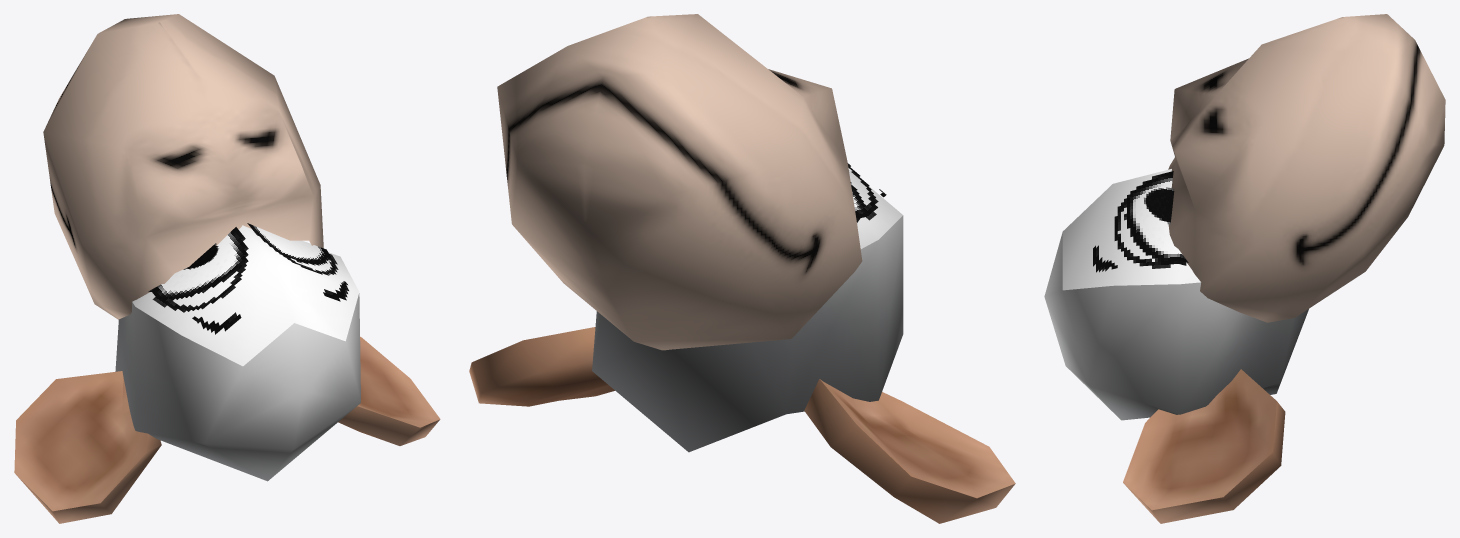
The model's file is psl_500.glb.
3 views of the same model, side by side, from view 1: azimuth 30°, elevation 25°; view 2: azimuth 150°, elevation 25°; view 3: azimuth 270°, elevation 25° (orthographic). The views are drawn at different scales.
Parts seen in each view (by area): view 1: muzzle-long-neutral, head-short, ears-short, head-front-short, eyes-short; view 2: muzzle-long-neutral, head-short, ears-short, head-front-short, eyes-short; view 3: muzzle-long-neutral, head-short, ears-short, head-front-short, eyes-short, joint_pupilR_short.
Part boxes in pixels (x1,y1,x2,y2): muzzle-long-neutral: (43,14,323,319); head-short: (115,293,360,481); ears-short: (14,336,440,523); head-front-short: (132,225,359,366); eyes-short: (148,223,348,334); muzzle-long-neutral: (497,14,862,350); head-short: (592,215,903,452); ears-short: (469,327,1015,523); head-front-short: (848,169,902,248); eyes-short: (847,163,886,222); muzzle-long-neutral: (1168,14,1445,322); head-short: (1044,232,1308,420); ears-short: (1123,369,1285,523); head-front-short: (1062,169,1200,290); eyes-short: (1093,171,1188,272); joint_pupilR_short: (1144,187,1174,224).
Size of the model in its own units: 1.77 by 1.69 by 1.48.
Materials: 5 (5 with a texture image).
